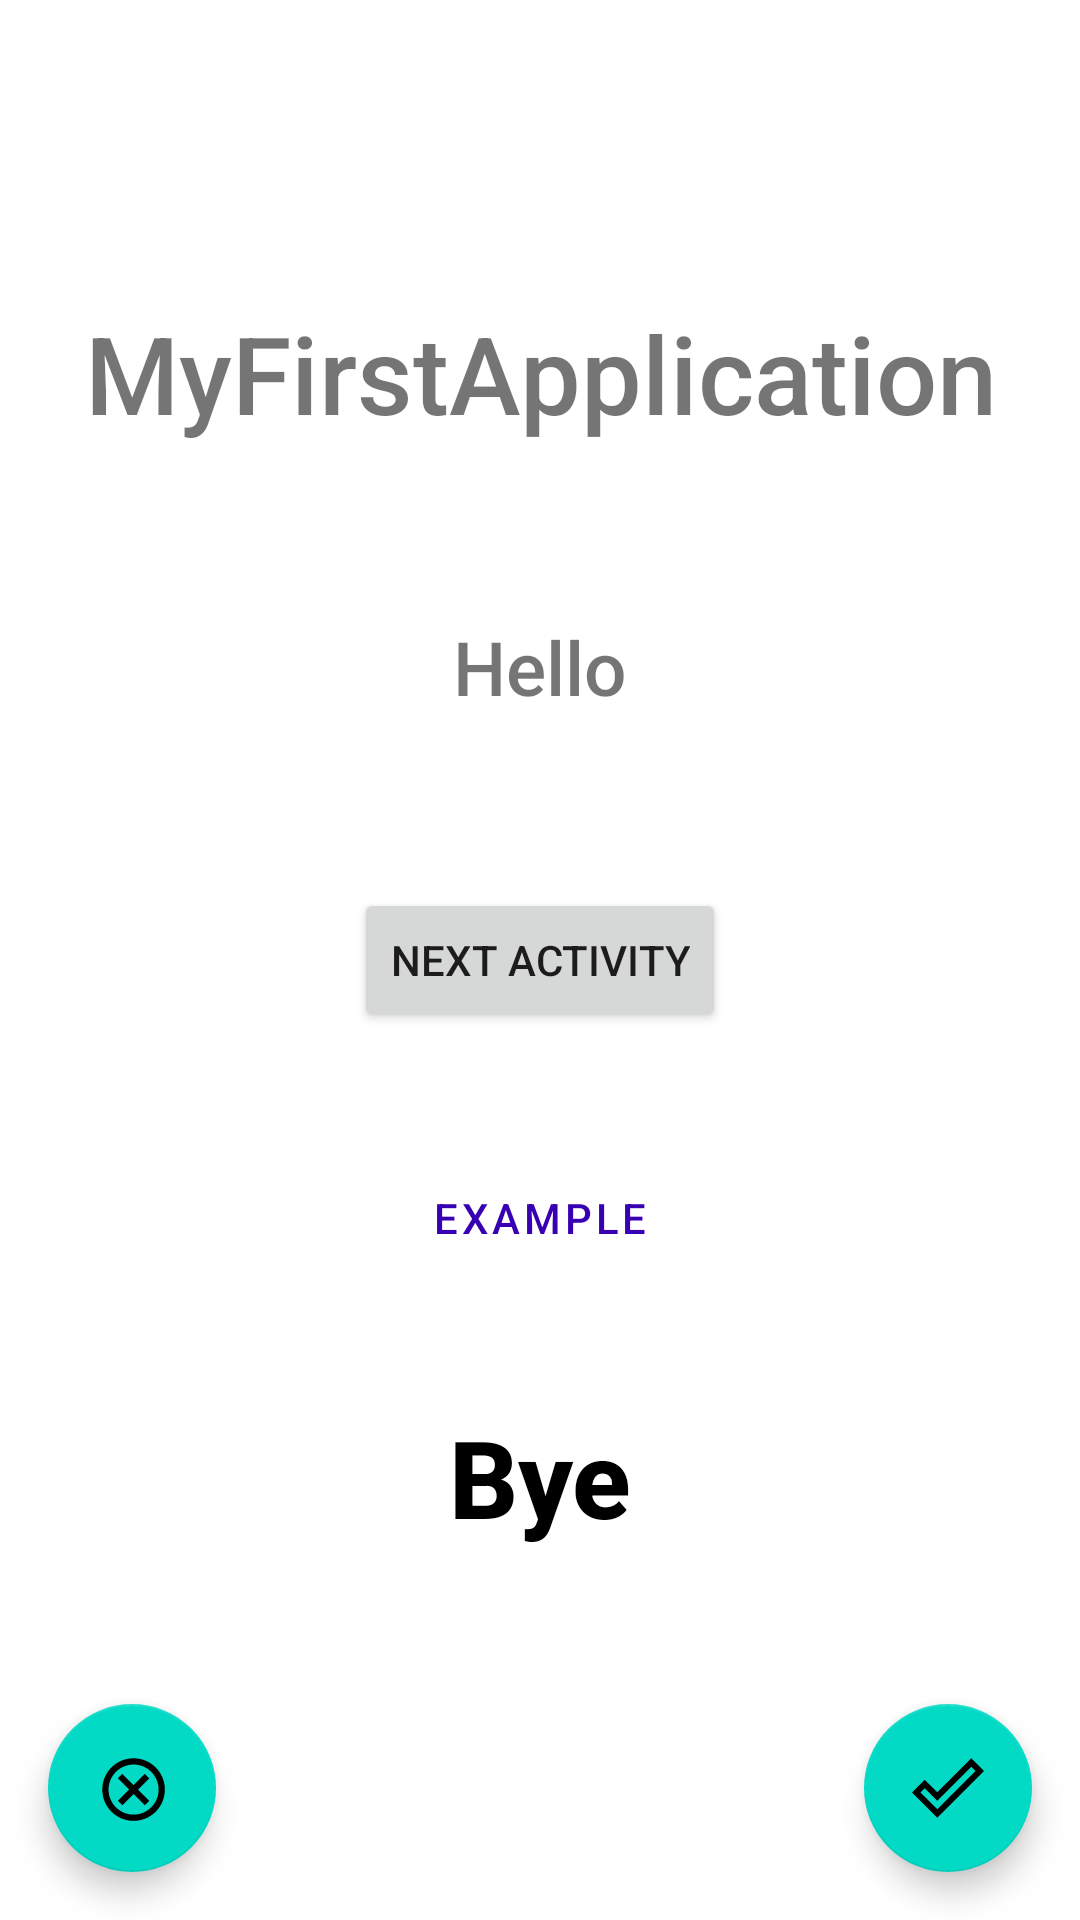

Icons on this 1080 × 1920 Android screen, each with its box as (x1, y1, x2, y2):
cancel: (48, 1704, 216, 1872)
done: (864, 1704, 1032, 1872)
